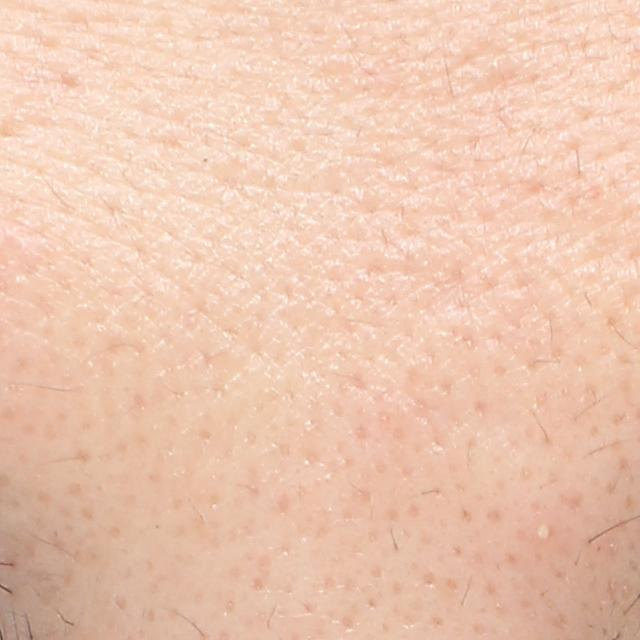pustule: (532, 520, 557, 546)
